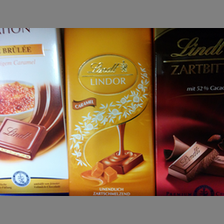chocolate: (64, 28, 154, 195), (153, 28, 224, 196), (1, 28, 69, 193)
